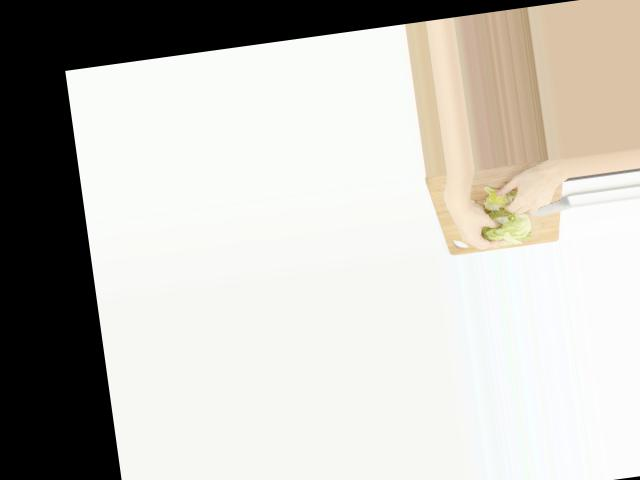lettuce: (482, 208, 534, 247)
